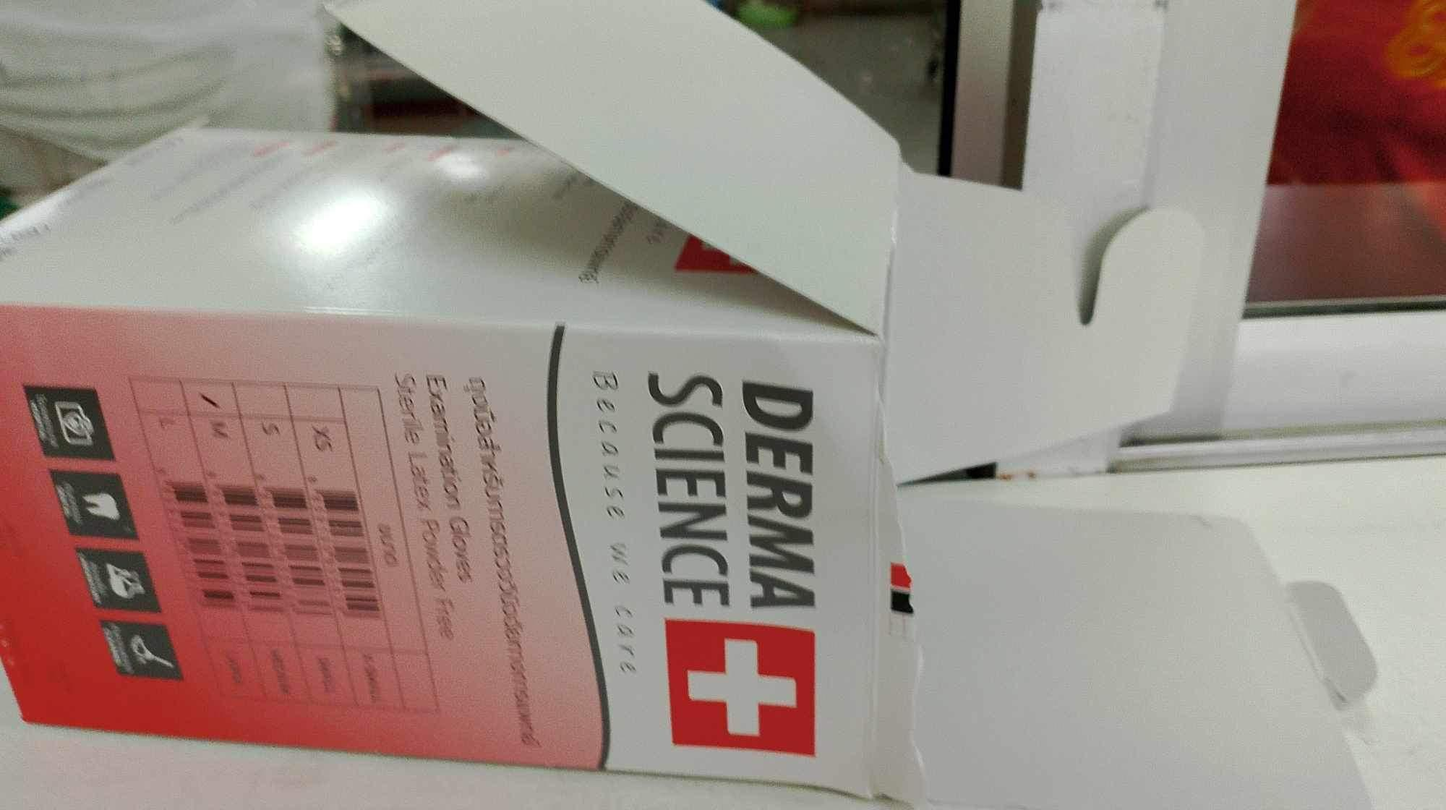Infectious: (1, 123, 925, 801)
Sharps: (317, 0, 1290, 482)
